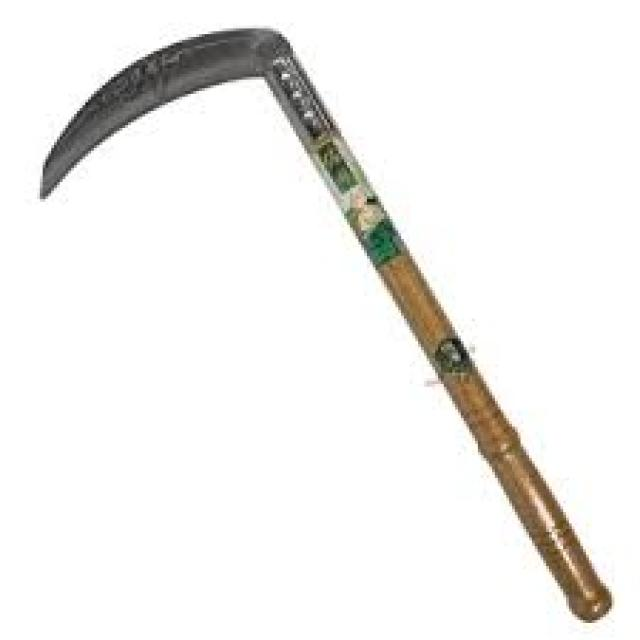sickle: (42, 22, 609, 638)
